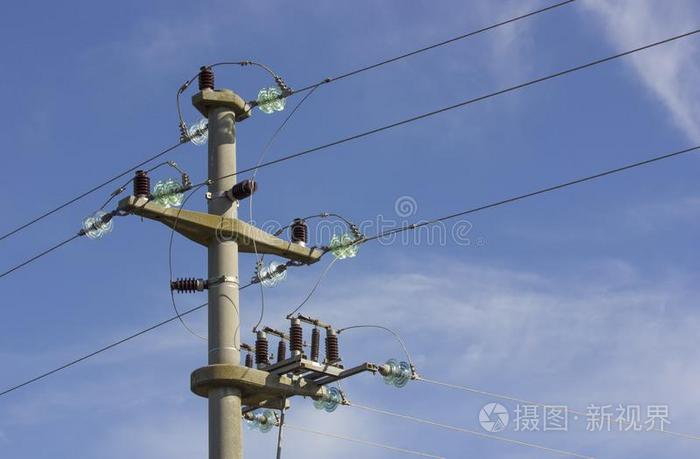insulator: (152, 178, 183, 212), (80, 210, 113, 241), (382, 357, 408, 389), (256, 87, 285, 115), (242, 411, 277, 434), (256, 260, 285, 287), (329, 232, 356, 260), (315, 385, 340, 414), (188, 119, 210, 147)
